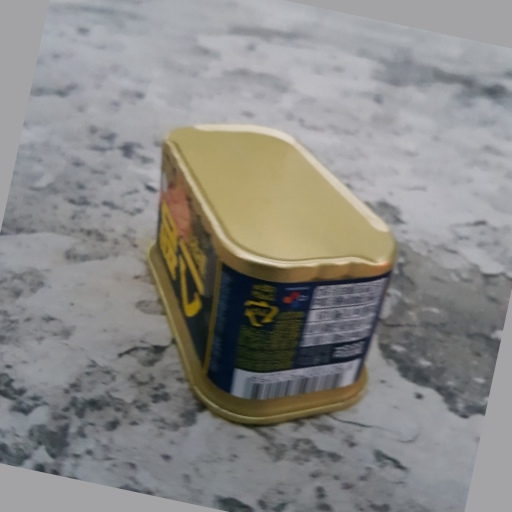Metal_2: (143, 119, 400, 424)
